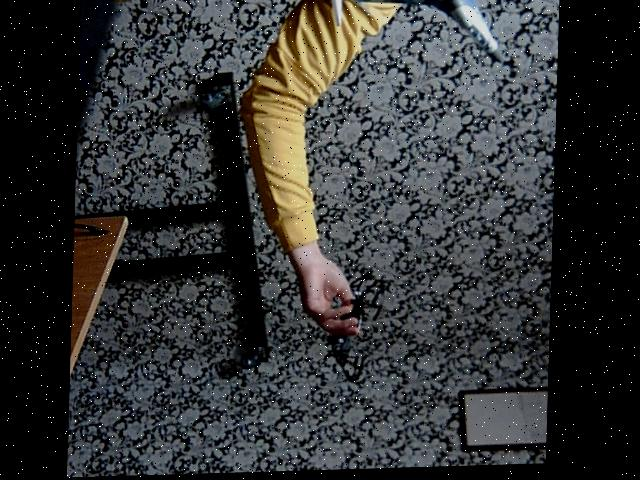drone: (322, 264, 400, 389)
